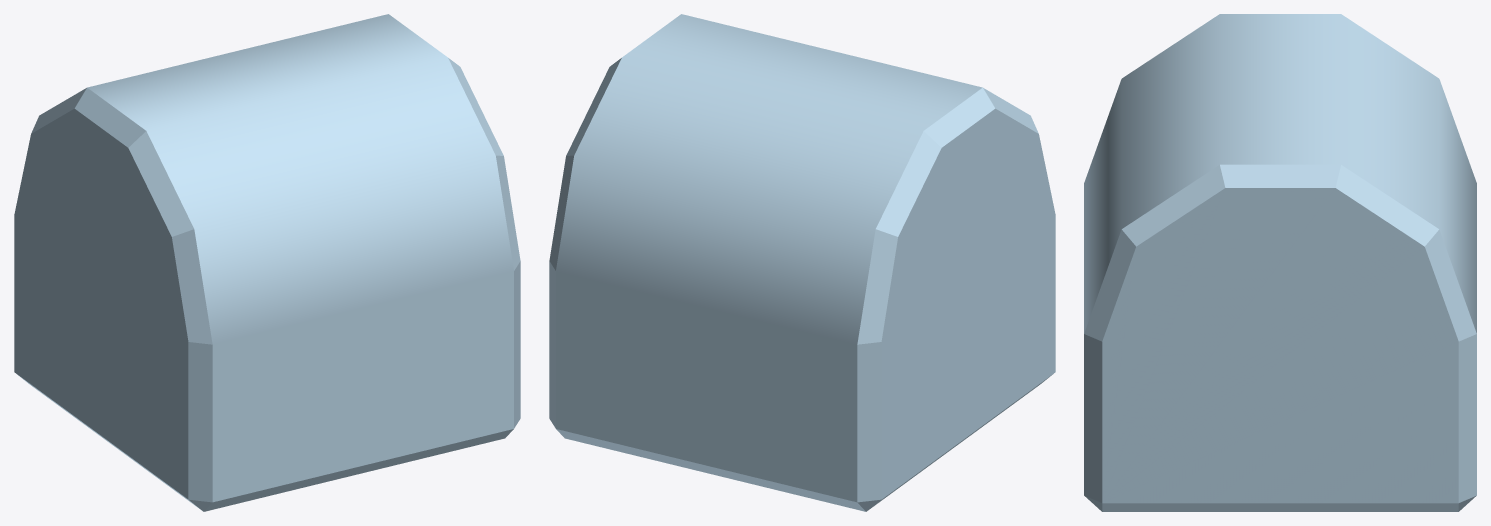
Rendered from R4B_RoundTop_LOD1.fbx.
3 renders of one model, left to right at view 1: azimuth 30°, elevation 25°; view 2: azimuth 150°, elevation 25°; view 3: azimuth 270°, elevation 25°, orthographic. The views are drawn at different scales.
Visible parts, largest first — view 1: R4B_RoundTop_LOD1; view 2: R4B_RoundTop_LOD1; view 3: R4B_RoundTop_LOD1.
Part boxes in pixels (x1,y1,x2,y2): R4B_RoundTop_LOD1: (14, 14, 520, 511); R4B_RoundTop_LOD1: (549, 14, 1055, 511); R4B_RoundTop_LOD1: (1084, 14, 1476, 511).
Bounding box in the file's own units: 0.52 × 0.5073 × 0.52.
